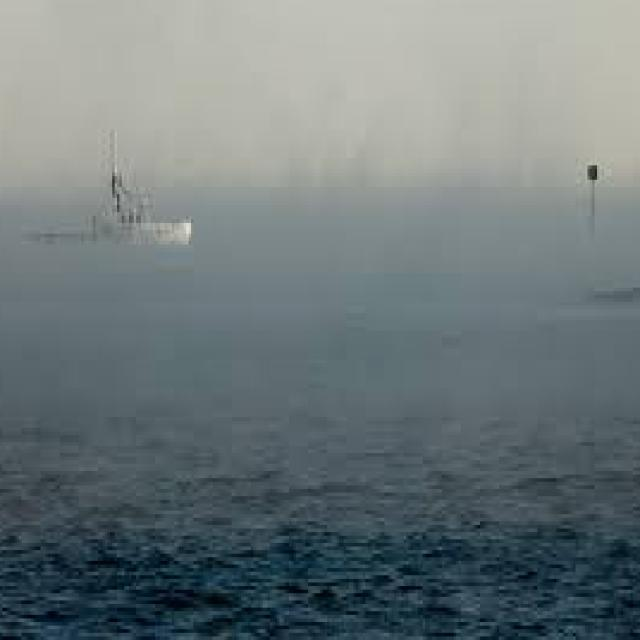passenger ship: (7, 120, 196, 258)
